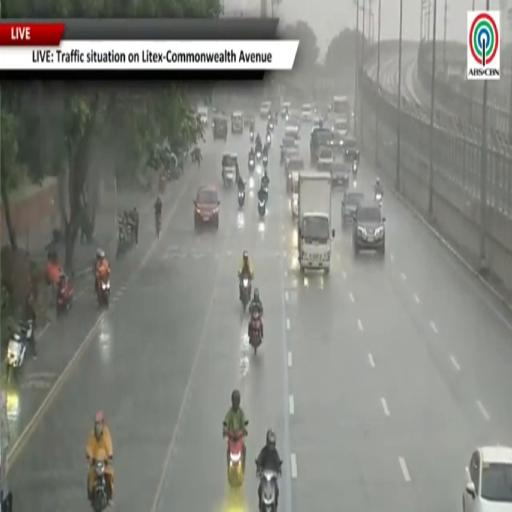bus: (331, 96, 350, 120)
car: (463, 446, 511, 511), (353, 202, 385, 255), (194, 186, 220, 229), (310, 128, 332, 165), (342, 189, 364, 226), (286, 154, 305, 191), (328, 159, 351, 186), (222, 152, 238, 185), (280, 136, 297, 164), (289, 171, 299, 218), (330, 133, 347, 159), (343, 137, 359, 162), (317, 147, 333, 170), (285, 148, 299, 173), (332, 118, 349, 138), (213, 117, 227, 140), (286, 110, 301, 129), (231, 111, 243, 133), (301, 104, 314, 122), (285, 125, 300, 140), (330, 132, 344, 147), (260, 101, 271, 119), (281, 102, 291, 120), (198, 107, 208, 124), (312, 118, 323, 132), (244, 114, 255, 127)
motorcycle: (6, 320, 33, 383), (227, 430, 244, 488), (258, 470, 278, 511), (92, 460, 108, 511), (57, 276, 74, 315), (117, 223, 134, 258), (249, 310, 261, 354), (97, 277, 110, 307), (240, 276, 251, 311), (258, 199, 266, 218), (238, 189, 245, 207), (156, 215, 161, 238), (375, 192, 382, 206), (263, 183, 268, 202), (249, 158, 255, 173), (266, 132, 272, 147), (352, 160, 358, 174), (256, 149, 262, 161), (263, 154, 267, 168), (268, 122, 273, 132), (250, 132, 254, 143)
truck: (298, 171, 335, 273)
